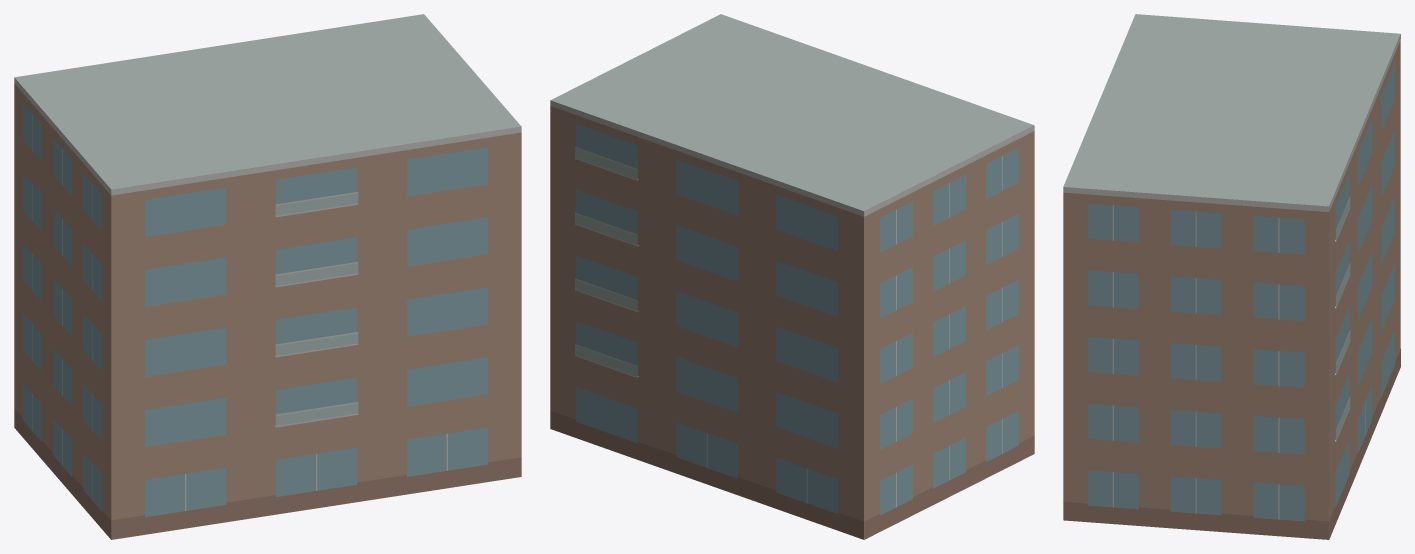
Rendered from survey-upis-32983202.glb.
3 views of the same model, side by side, from view 1: azimuth 30°, elevation 25°; view 2: azimuth 150°, elevation 25°; view 3: azimuth 270°, elevation 25° (orthographic). The views are drawn at different scales.
Parts seen in each view (by area): view 1: survey-upis-32983202.tmp; view 2: survey-upis-32983202.tmp; view 3: survey-upis-32983202.tmp.
Part boxes in pixels (x1,y1,x2,y2): survey-upis-32983202.tmp: (14, 14, 521, 539); survey-upis-32983202.tmp: (550, 14, 1034, 539); survey-upis-32983202.tmp: (1063, 14, 1400, 539).
Size of the model in its own units: 17.84 by 14.4 by 13.22.
